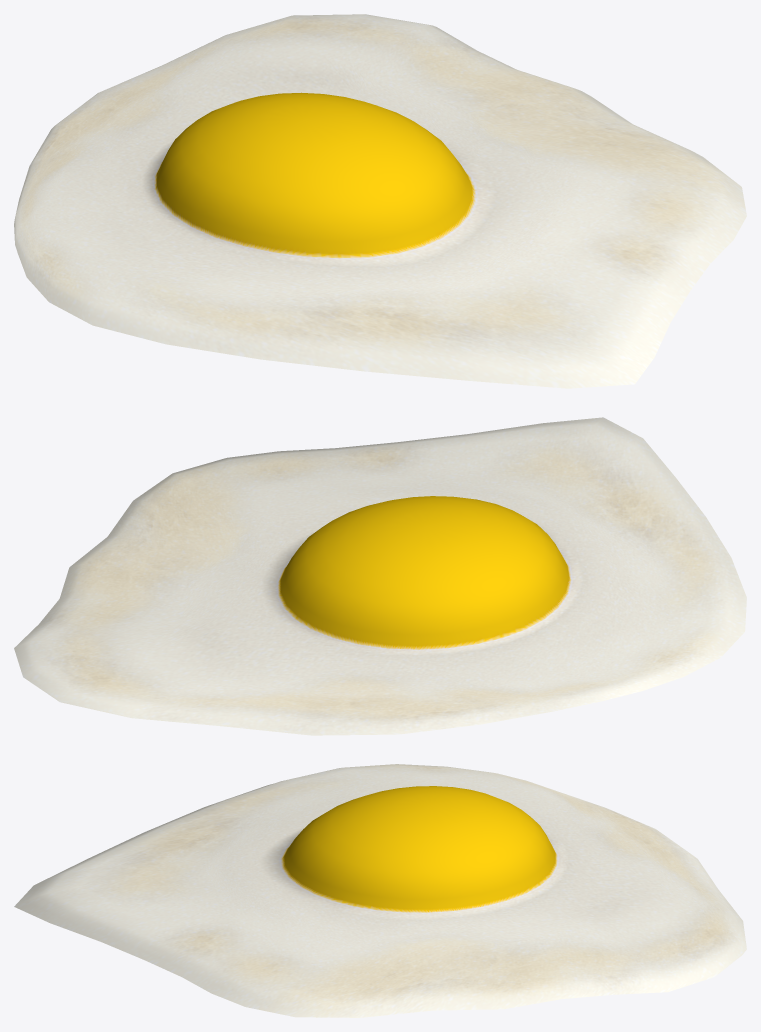
The model's file is Egg_Cracked_20.obj.
3 views of the same model, one above another, from view 1: azimuth 30°, elevation 25°; view 2: azimuth 150°, elevation 25°; view 3: azimuth 270°, elevation 25° (orthographic). The views are drawn at different scales.
Visible parts, largest first — view 1: fried_egg_19; view 2: fried_egg_19; view 3: fried_egg_19.
Part boxes in pixels (x1,y1,x2,y2): fried_egg_19: (14, 14, 746, 388); fried_egg_19: (14, 417, 746, 735); fried_egg_19: (14, 764, 746, 1017).
Size of the model in its own units: 0.113 by 0.0155 by 0.14.
